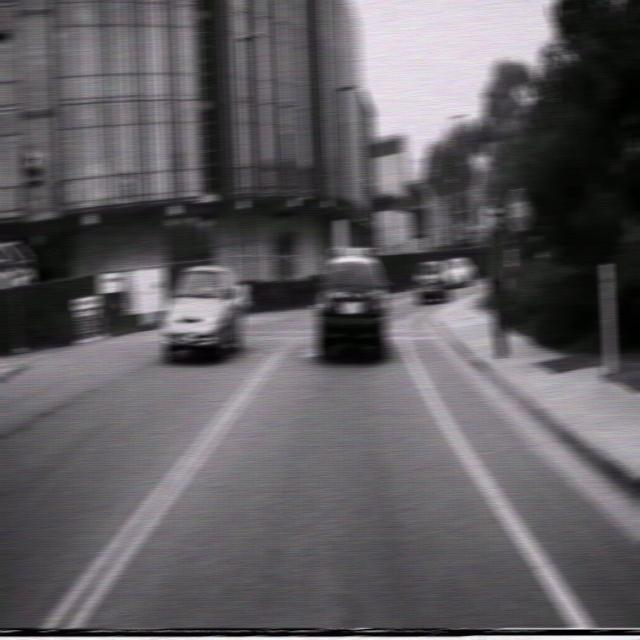stop: (507, 186, 535, 232)
